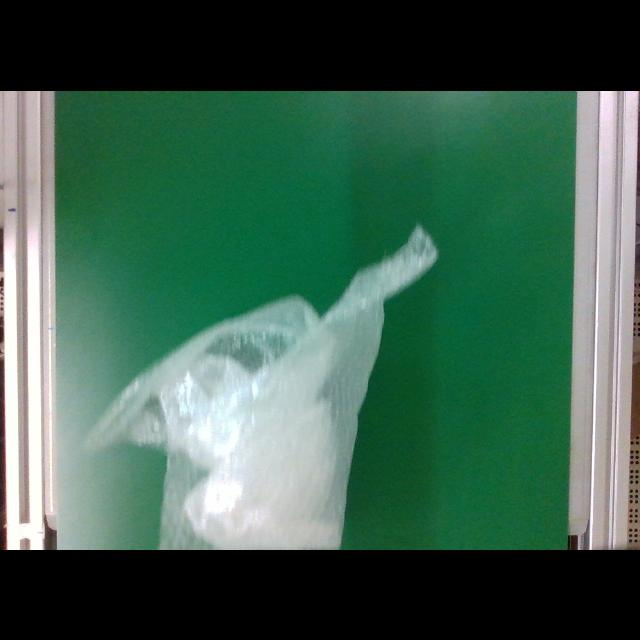scrap_plastic: (89, 222, 439, 544)
